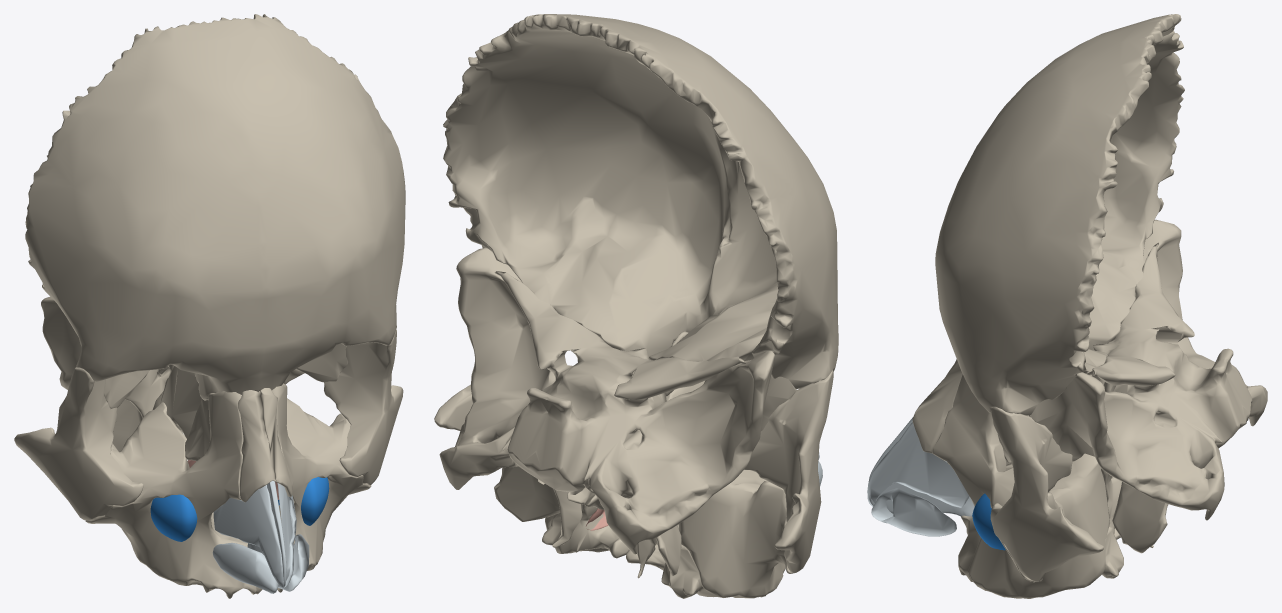
Rendered from x-nose.08369933.glb.
The picture shows the model from 3 angles, left to right: view 1: azimuth 30°, elevation 25°; view 2: azimuth 150°, elevation 25°; view 3: azimuth 270°, elevation 25°; orthographic projection. The views are drawn at different scales.
Visible parts, largest first — view 1: Skull, Nasal septum and cartilage, Maxillary sinus; view 2: Skull; view 3: Skull, Nasal septum and cartilage, Maxillary sinus.
Boxes of the visible parts, x1,y1,x2,y2 form: Skull: (14, 14, 405, 598); Nasal septum and cartilage: (212, 480, 309, 593); Maxillary sinus: (150, 477, 329, 541); Skull: (434, 14, 838, 598); Skull: (912, 14, 1267, 598); Nasal septum and cartilage: (867, 417, 974, 536); Maxillary sinus: (972, 493, 1005, 550).
Size of the model in its own units: 0.2149 by 0.3 by 0.1992.
